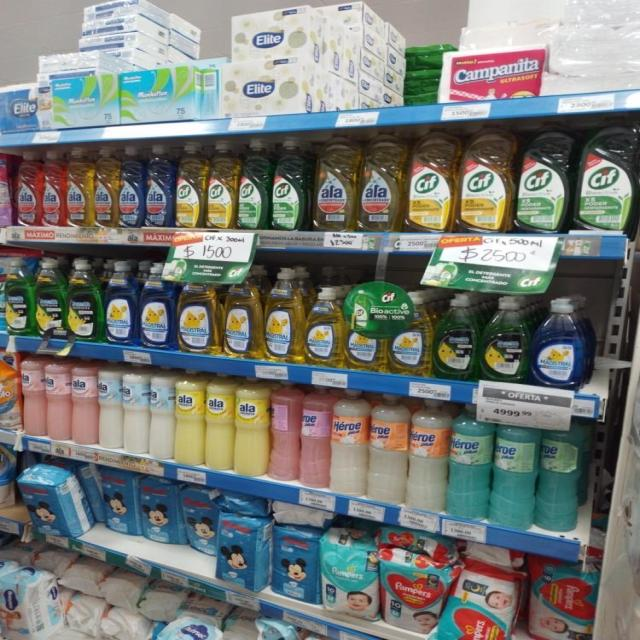ala_conc_amarillo: (313, 136, 356, 232), (359, 136, 402, 232), (66, 146, 94, 228), (94, 146, 118, 228)
ala_conc_azul: (146, 144, 174, 228), (119, 145, 144, 229)
ala_conc_rojo: (15, 150, 41, 228), (41, 150, 66, 228)
ala_crem_amarillo: (235, 376, 269, 477), (176, 370, 204, 466), (206, 373, 233, 471)
ala_crem_blanco: (150, 369, 174, 460), (123, 368, 148, 455), (98, 366, 122, 451)
ala_crem_rosado: (72, 362, 97, 446)
cif_conc_bot_amarilla: (458, 133, 511, 233), (406, 136, 454, 232), (208, 140, 238, 230), (176, 140, 206, 229)
cif_conc_botella_verde: (576, 124, 635, 233), (515, 130, 571, 234), (271, 137, 310, 231), (238, 137, 270, 230)
drive: (0, 150, 14, 228)
heroe: (449, 402, 491, 520), (409, 397, 447, 512), (369, 392, 408, 504), (331, 387, 368, 496), (300, 383, 330, 489), (270, 378, 299, 482)
magistral_con_amarillo: (264, 267, 303, 363), (346, 285, 388, 372), (177, 272, 220, 354), (223, 268, 262, 358), (389, 295, 432, 376), (305, 285, 344, 367)
magistral_con_azul: (532, 296, 588, 388), (139, 261, 175, 350), (104, 260, 137, 346)
